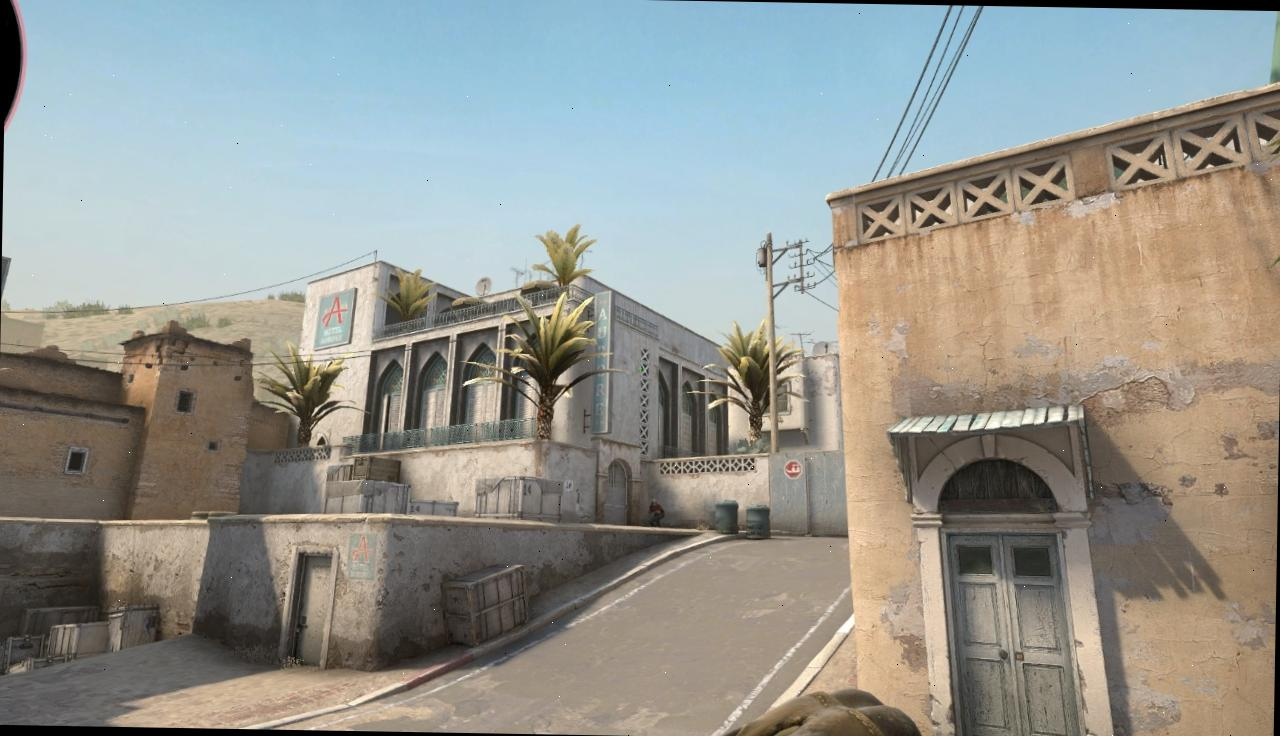tt: (649, 500, 665, 527)
tthead: (652, 500, 657, 506)
